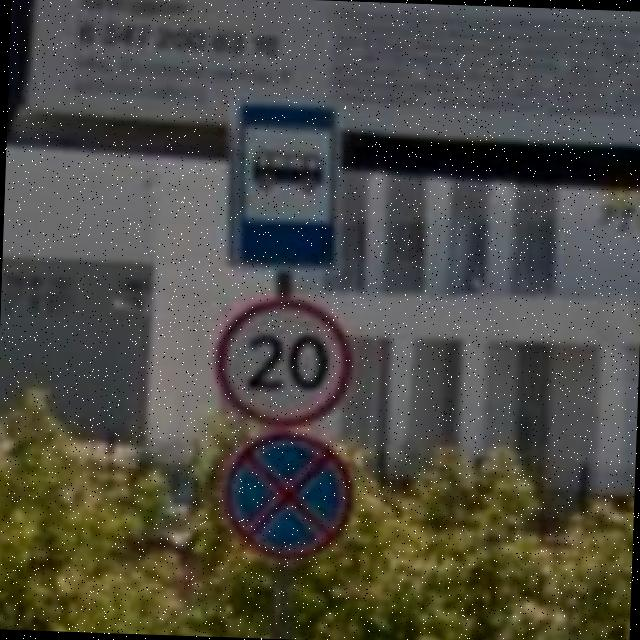Ograniczenie predkosci do 20: (214, 295, 354, 429)
Zakaz zatrzymywania sie: (218, 428, 356, 564)
